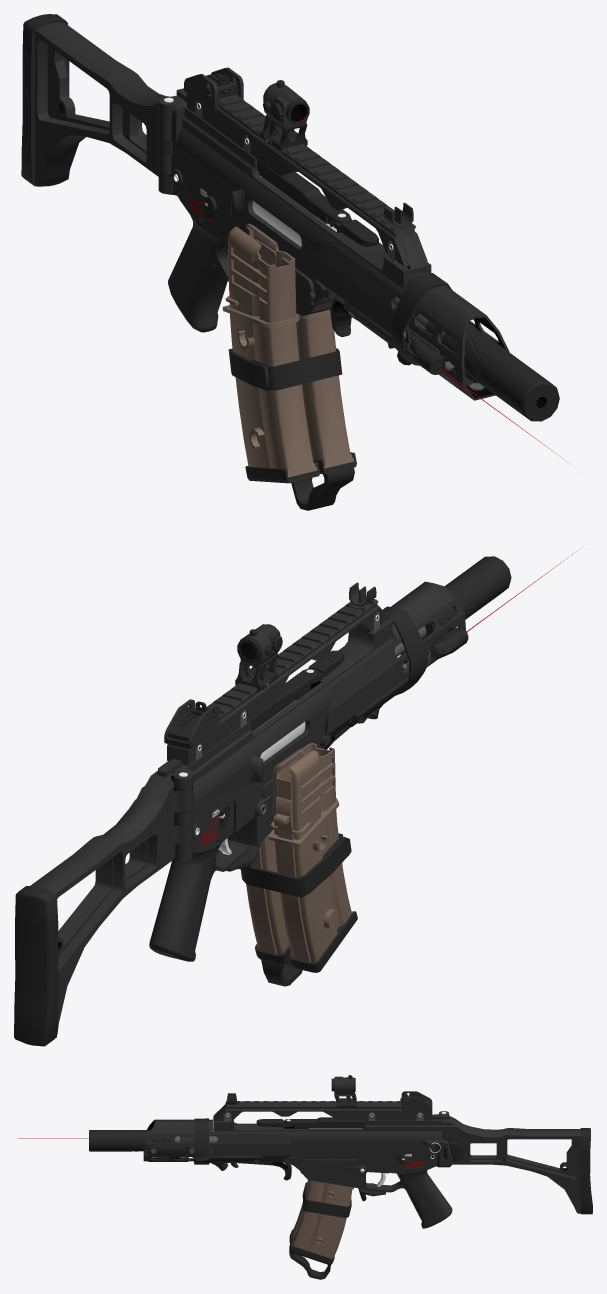
The picture shows the model from 3 angles, top to bottom: view 1: azimuth 30°, elevation 25°; view 2: azimuth 150°, elevation 25°; view 3: azimuth 270°, elevation 25°; orthographic projection. The views are drawn at different scales.
Visible parts, largest first — view 1: base, second MAG, stock, gear, mag, slide, chamber; view 2: base, stock, second MAG, gear, mag, slide; view 3: base, stock, gear, mag, second MAG, slide.
Boxes of the visible parts, left/top/right/bottom form: base: left=158, top=67, right=509, bottom=400; second MAG: left=222, top=223, right=342, bottom=483; stock: left=21, top=14, right=183, bottom=186; gear: left=260, top=80, right=566, bottom=461; mag: left=269, top=223, right=356, bottom=510; slide: left=252, top=160, right=351, bottom=246; chamber: left=332, top=219, right=378, bottom=246; base: left=149, top=581, right=465, bottom=961; stock: left=14, top=771, right=192, bottom=1046; second MAG: left=241, top=743, right=357, bottom=972; gear: left=235, top=551, right=576, bottom=749; mag: left=246, top=741, right=302, bottom=986; slide: left=250, top=668, right=318, bottom=761; base: left=143, top=1091, right=453, bottom=1228; stock: left=442, top=1116, right=592, bottom=1214; gear: left=18, top=1075, right=440, bottom=1180; mag: left=289, top=1180, right=353, bottom=1279; second MAG: left=289, top=1180, right=351, bottom=1242; slide: left=283, top=1117, right=364, bottom=1128.
Bounding box in the file's own units: 1.17 × 4.74 × 12.32.
2 materials, 2 textured.
